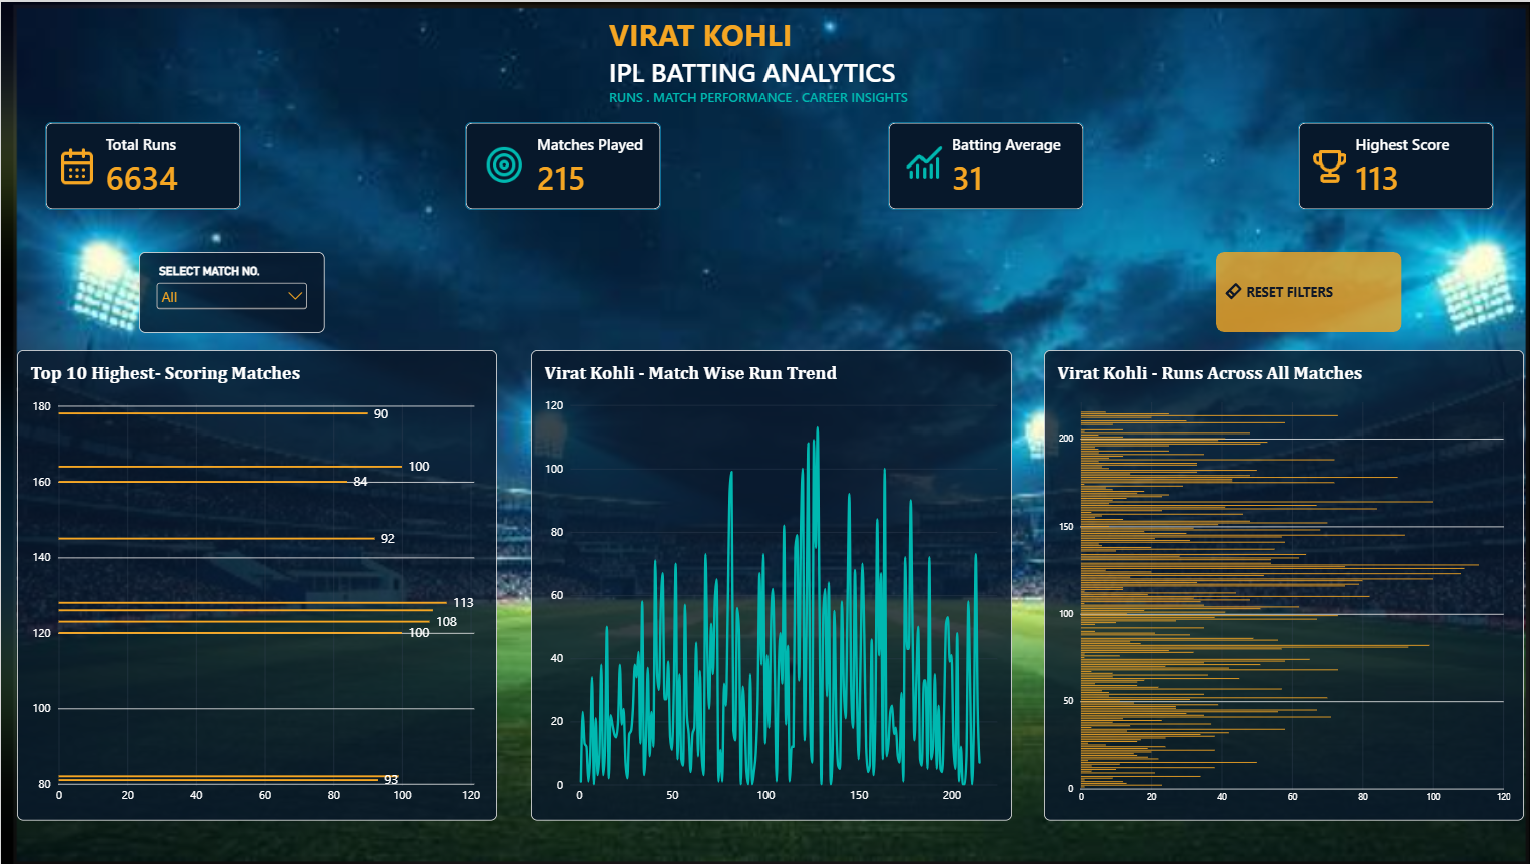

What the dashboard file says about the page in this screenshot:
{"tool":"powerbi","page":{"name":"Kohli Stats","canvas":[1920,1080],"ordinal":1},"visuals":[{"type":"cardVisual","fields":{"Data":["Sum(kohli_ipl.runs)"]},"box":[55,150,245,110],"z":0,"group":"g1"},{"type":"group","id":"g1","title":"Group 2","box":[55,150,1810,110],"z":0},{"type":"cardVisual","fields":{"Data":["Max(kohli_ipl.runs)"]},"box":[1620,150,245,110],"z":1000,"group":"g1"},{"type":"group","id":"g2","title":"Group 3","box":[20,434,1882,586],"z":1000},{"type":"textbox","box":[639,14,642,122],"z":2000},{"type":"cardVisual","fields":{"Data":["Avg(kohli_ipl.runs)"]},"box":[1106.7,150,245,110],"z":2000,"group":"g1"},{"type":"cardVisual","fields":{"Data":["Count(kohli_ipl.match_no)"]},"box":[580,150,245,110],"z":3000,"group":"g1"},{"type":"group","id":"g3","title":"Group 4","box":[172,312,1576,100.9],"z":3000},{"type":"clusteredBarChart","title":"Virat Kohli - Runs Across All Matches","fields":{"Category":["kohli_ipl.match_no"],"Y":["Sum(kohli_ipl.runs)"]},"box":[1302.5,434,600,587],"z":5000,"group":"g2"},{"type":"clusteredBarChart","title":"Top 10 Highest- Scoring Matches","fields":{"Category":["kohli_ipl.match_no"],"Y":["Sum(kohli_ipl.runs)"]},"box":[20,434.2,600,587],"z":6000,"group":"g2"},{"type":"lineChart","title":"Virat Kohli - Match Wise Run Trend","fields":{"Category":["kohli_ipl.match_no"],"Y":["Sum(kohli_ipl.runs)"]},"box":[661.2,434,600,587],"z":7000,"group":"g2"},{"type":"slicer","fields":{"Values":["kohli_ipl.match_no"]},"box":[172,312,231.8,100.9],"z":8000,"group":"g3"},{"type":"actionButton","box":[1516,312,232,100],"z":10000,"group":"g3"}]}

Visuals, with their boxes in screenshot pixels (x1, y1, x2, y2), scaled from the page's 1920x1080 canvas onto the 1530x864 screenshot:
cardVisual - Sum(kohli_ipl.runs): 44:120:239:208
"Group 2" group: 44:120:1486:208
cardVisual - Max(kohli_ipl.runs): 1291:120:1486:208
"Group 3" group: 16:347:1516:816
textbox: 509:11:1021:109
cardVisual - Avg(kohli_ipl.runs): 882:120:1077:208
cardVisual - Count(kohli_ipl.match_no): 462:120:657:208
"Group 4" group: 137:250:1393:330
"Virat Kohli - Runs Across All Matches" clusteredBarChart: 1038:347:1516:817
"Top 10 Highest- Scoring Matches" clusteredBarChart: 16:347:494:817
"Virat Kohli - Match Wise Run Trend" lineChart: 527:347:1005:817
slicer - kohli_ipl.match_no: 137:250:322:330
actionButton: 1208:250:1393:330
